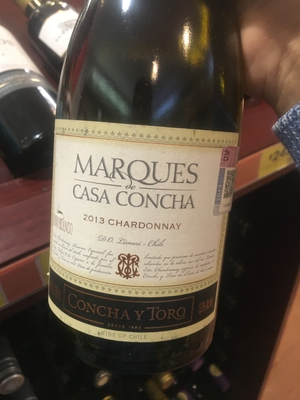marques de casa concha chardonnay: (53, 1, 247, 367)
